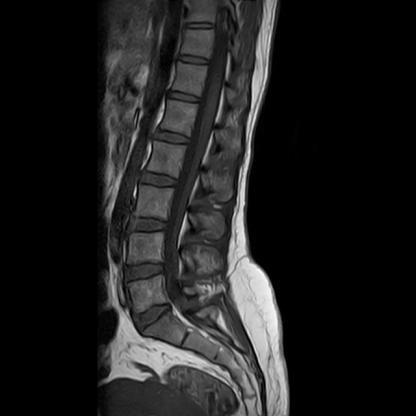Disc Bulgerotation: (125, 260, 167, 284), (134, 305, 177, 326)
